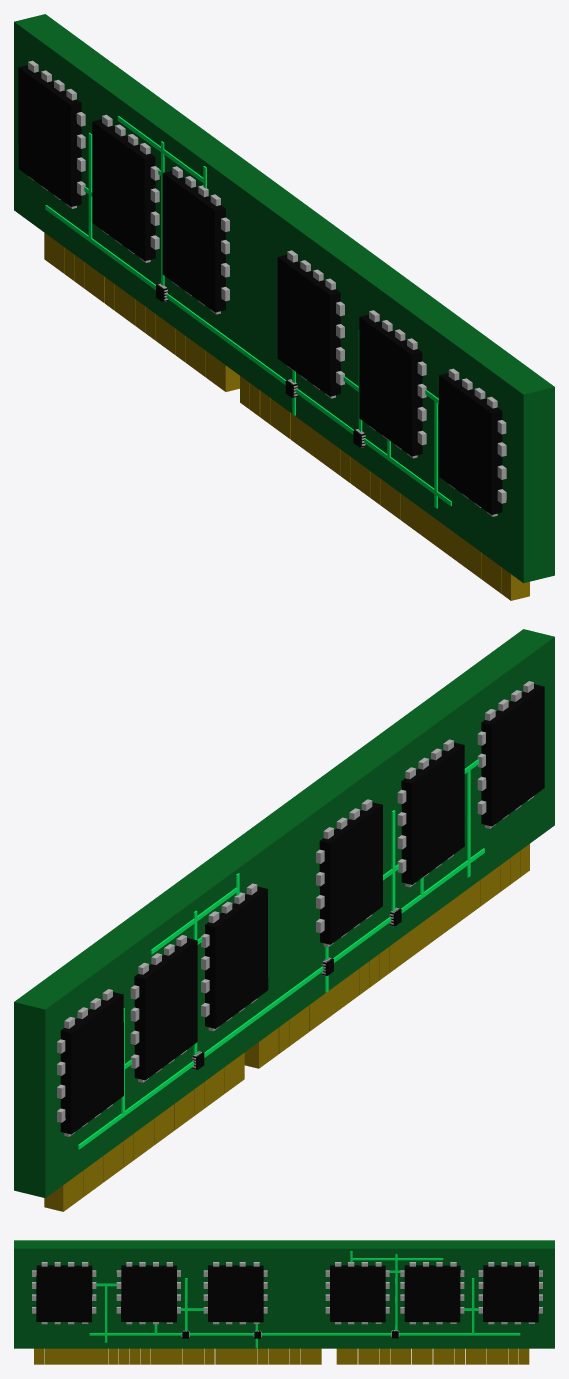
The model's file is RAMModel.gltf.
3 views of the same model, one above another, from view 1: azimuth 30°, elevation 25°; view 2: azimuth 150°, elevation 25°; view 3: azimuth 270°, elevation 25° (orthographic). The views are drawn at different scales.
Visible parts, largest first — view 1: Cube, Cube.141, Cube.090, Cube.107, Cube.073, Cube.124, Cube.052; view 2: Cube, Cube.052, Cube.124, Cube.073, Cube.107, Cube.090, Cube.141; view 3: Cube, Cube.124, Cube.052, Cube.073, Cube.107, Cube.090, Cube.141, Cube.003, Cube.020, Cube.025, Cube.027, Cube.031 (+40 smaller).
Boxes of the visible parts, x1,y1,x2,y2 form: Cube: [14, 14, 554, 583]; Cube.141: [162, 170, 225, 312]; Cube.090: [277, 255, 340, 396]; Cube.107: [18, 65, 81, 206]; Cube.073: [359, 314, 422, 456]; Cube.124: [92, 119, 155, 260]; Cube.052: [439, 373, 502, 514]; Cube: [14, 629, 554, 1198]; Cube.052: [481, 684, 544, 826]; Cube.124: [134, 938, 197, 1080]; Cube.073: [401, 742, 464, 884]; Cube.107: [60, 992, 123, 1134]; Cube.090: [319, 802, 382, 944]; Cube.141: [205, 886, 268, 1028]; Cube: [14, 1240, 554, 1348]; Cube.124: [404, 1265, 460, 1322]; Cube.052: [36, 1265, 92, 1322]; Cube.073: [121, 1265, 176, 1322]; Cube.107: [483, 1265, 538, 1322]; Cube.090: [208, 1265, 263, 1322]; Cube.141: [330, 1265, 385, 1322]; Cube.003: [65, 1348, 76, 1364]; Cube.020: [225, 1348, 236, 1364]; Cube.025: [289, 1348, 300, 1364]; Cube.027: [300, 1348, 311, 1364]; Cube.031: [336, 1348, 347, 1364].
Size of the model in its own units: 0.2578 by 1.03 by 4.3.
